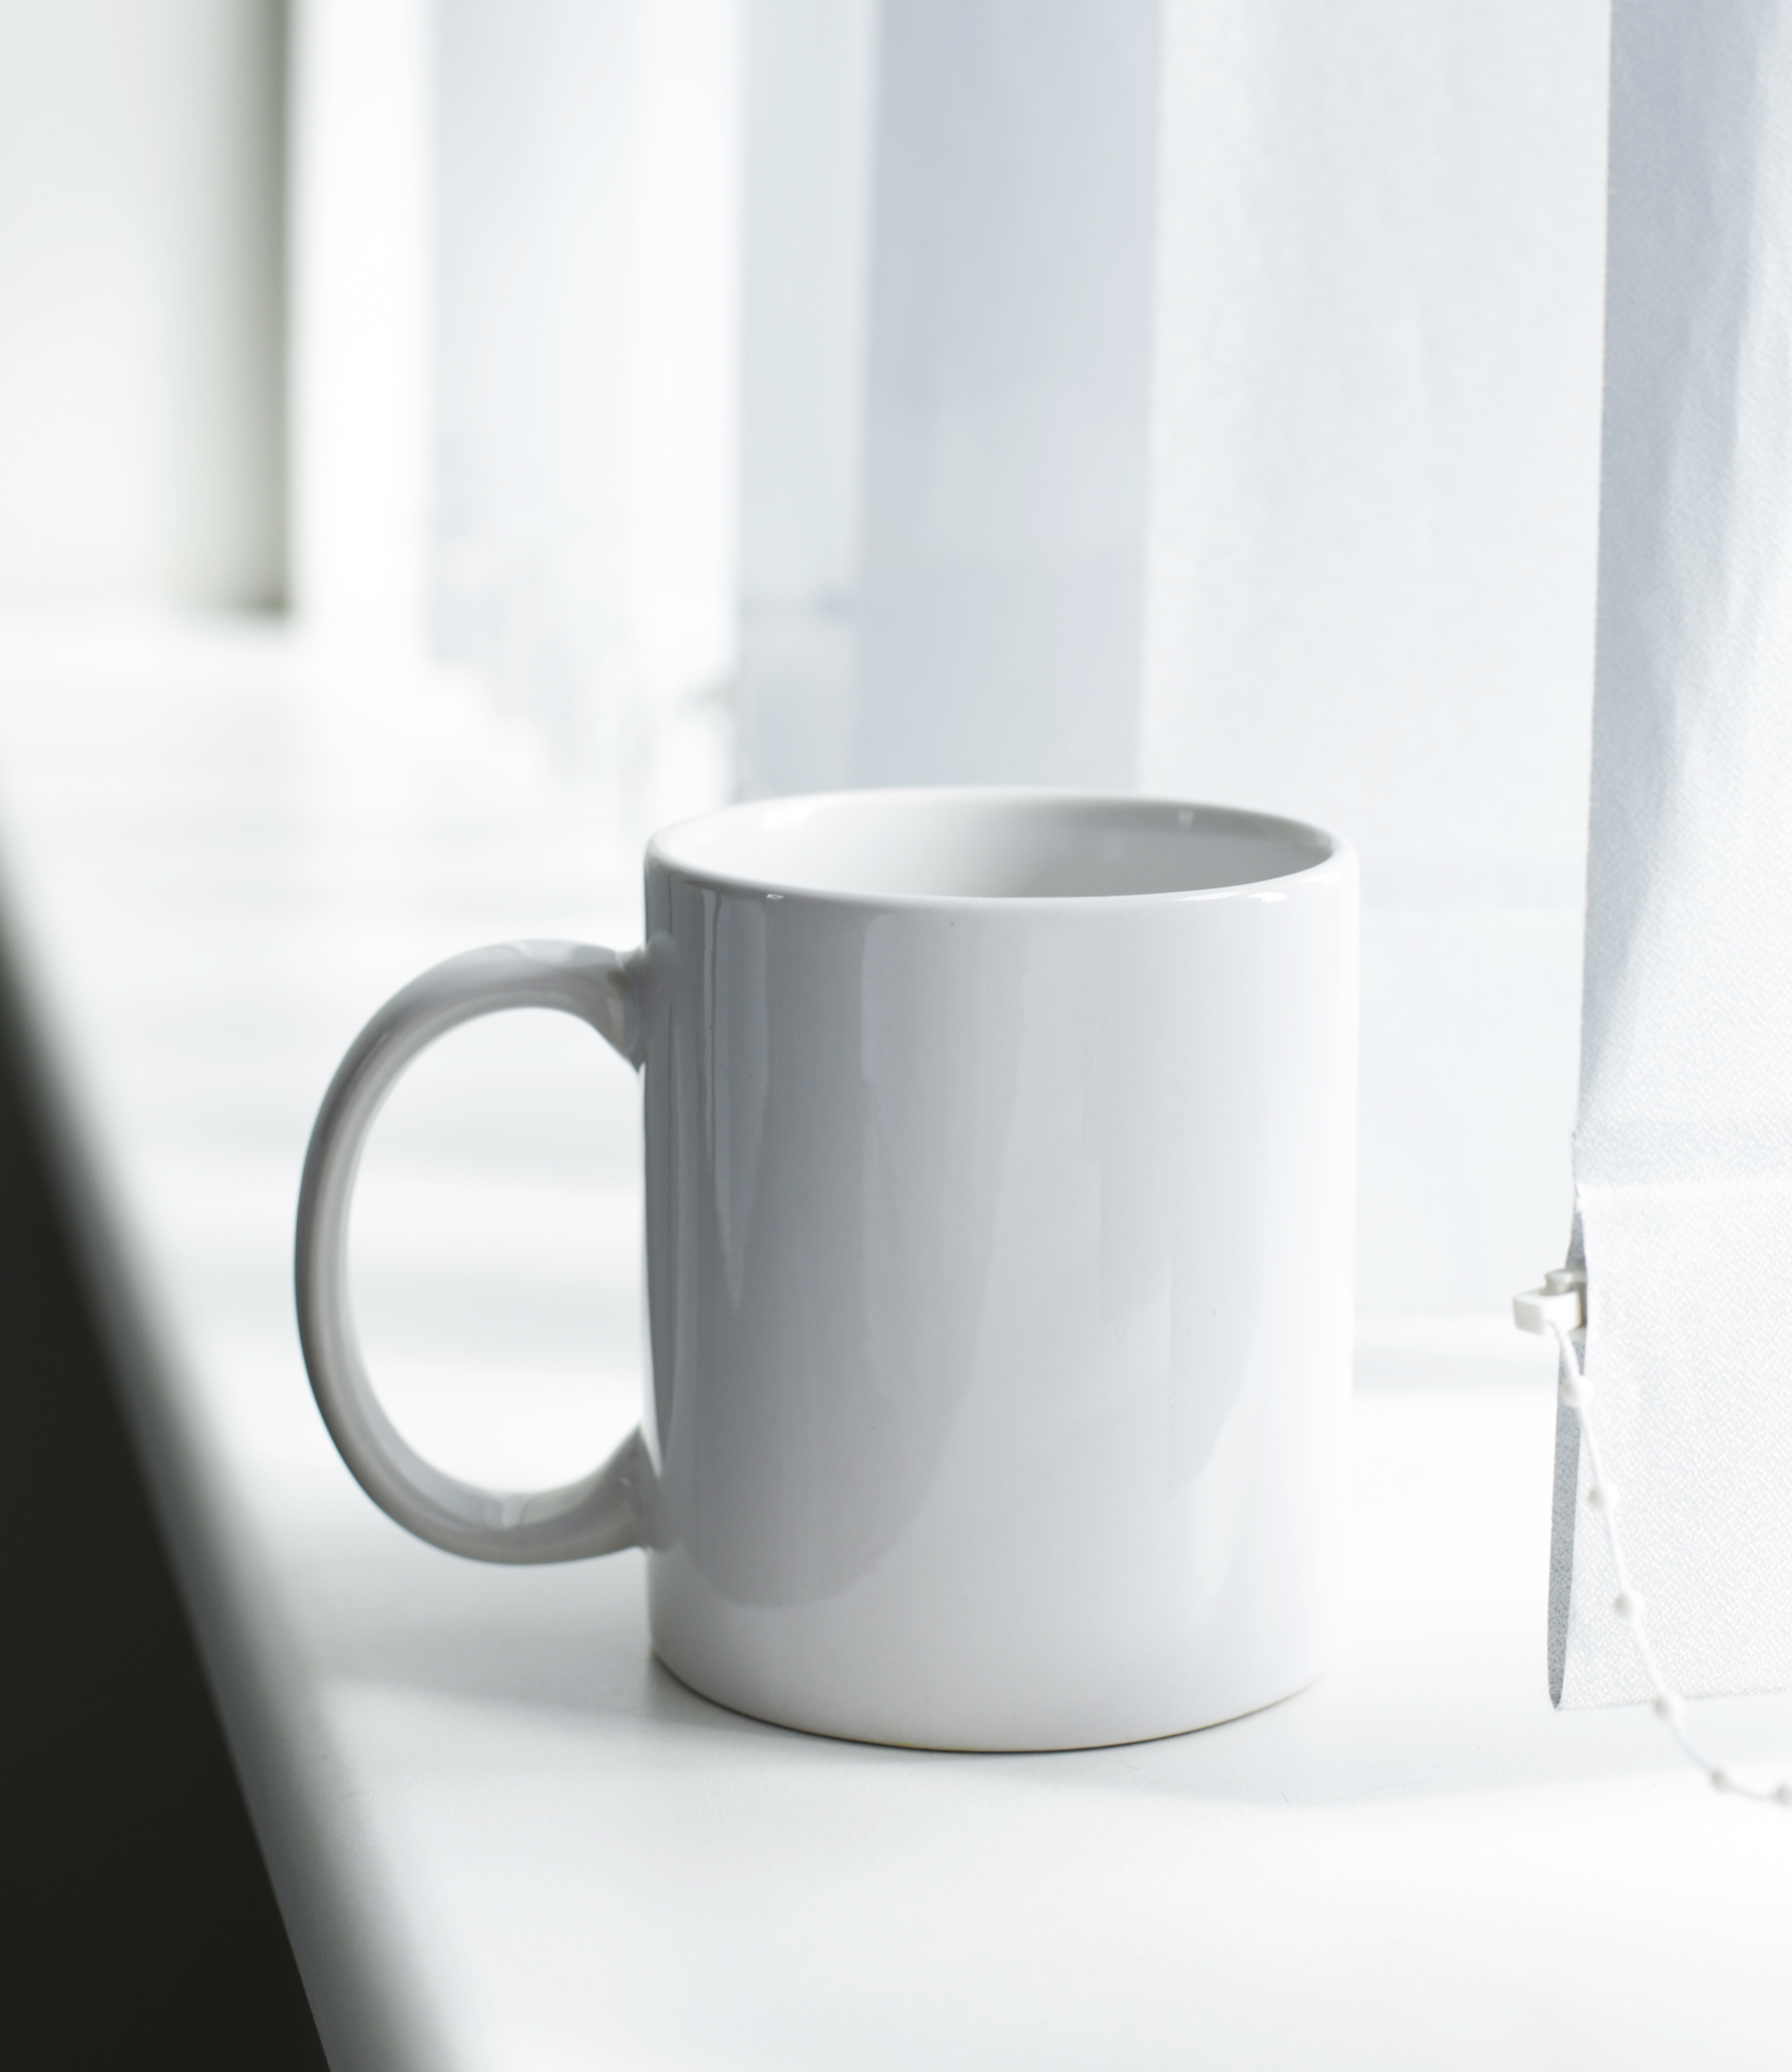cup: (292, 747, 1415, 1762)
